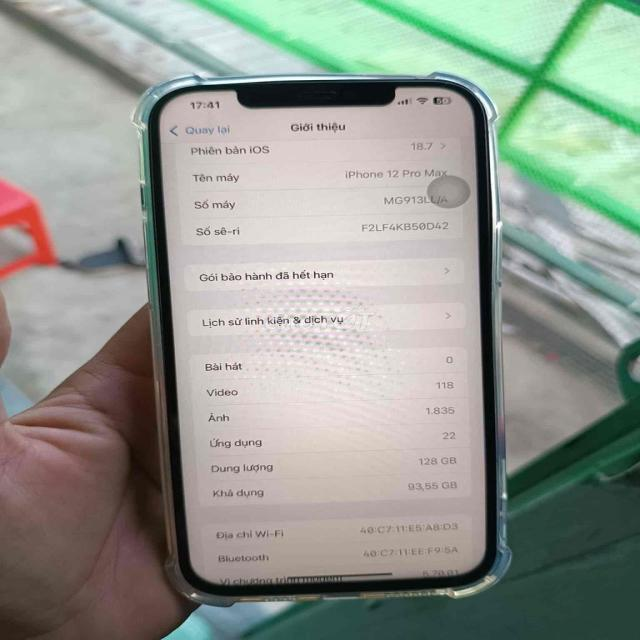screen_defect: (233, 261, 408, 397)
